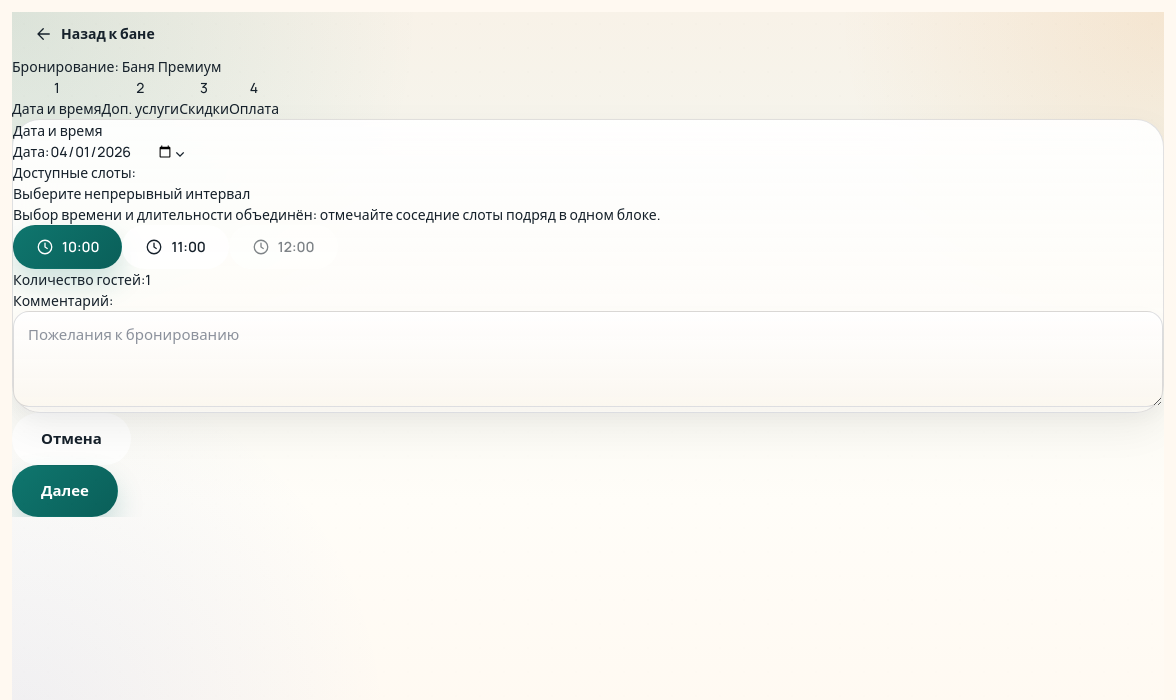
BookingCreate › Saved cards › shows saved cards section when user has saved cards and card payment selected
Click the button "Далее": x=65, y=491 [12,465,118,517]
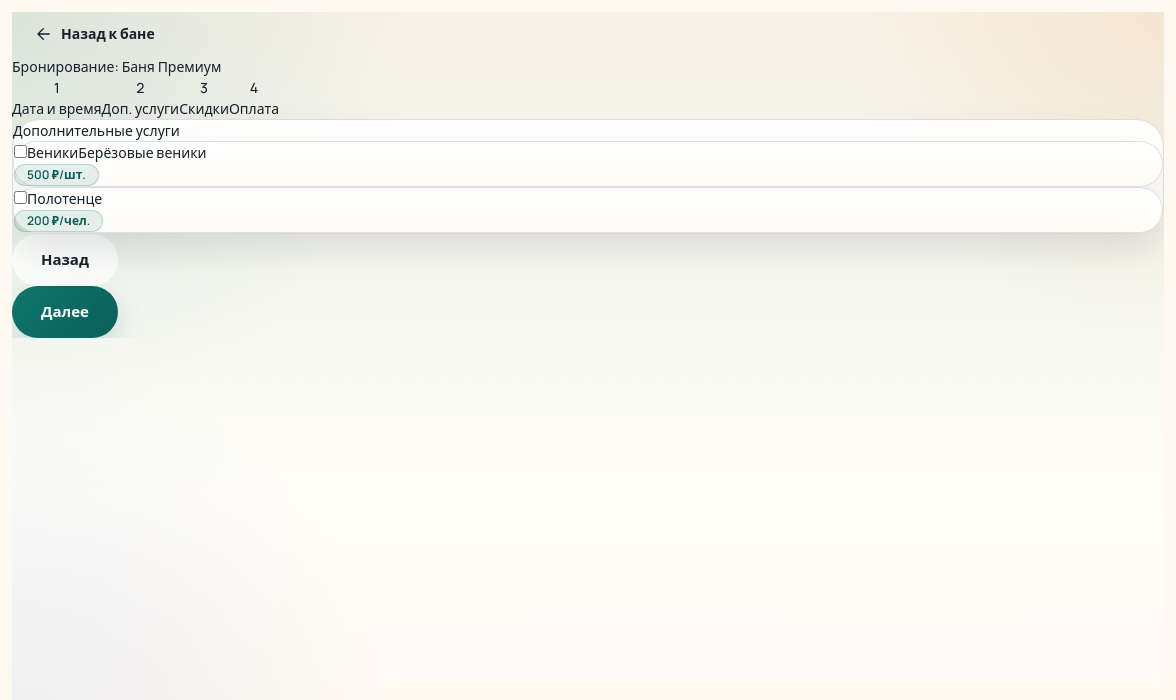
Click the button "Далее": x=65, y=312 [12,286,118,338]
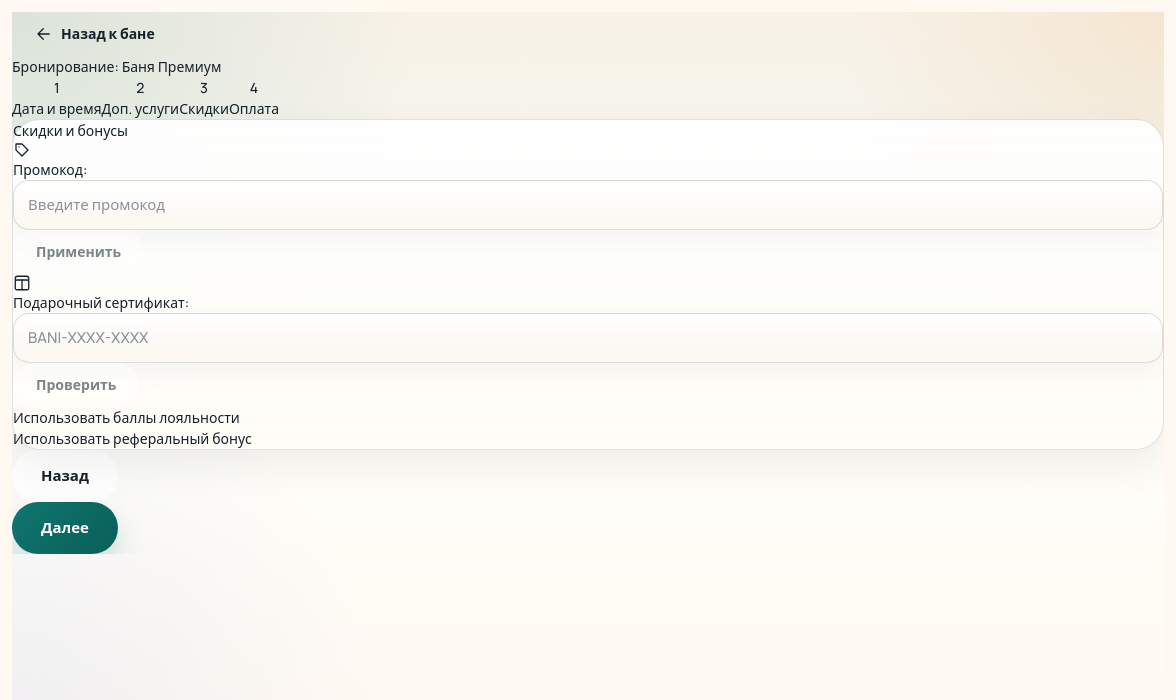
Click the button "Далее": x=65, y=528 [12,502,118,554]
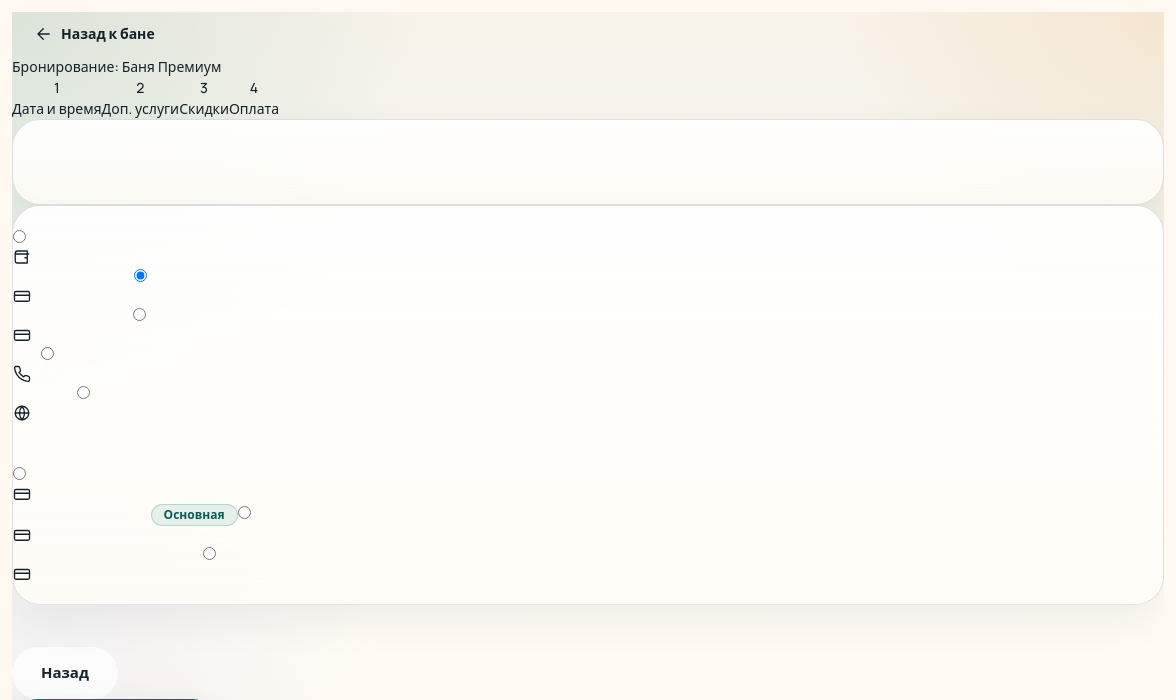
Now the element with test id "saved-cards-section" is shown, box [13,444,250,603]
Now the text "Сохранённые карты:" is shown, box [13,444,156,463]
Now the text "Visa •••• 424212/27 Основная" is shown, box [13,485,238,526]
